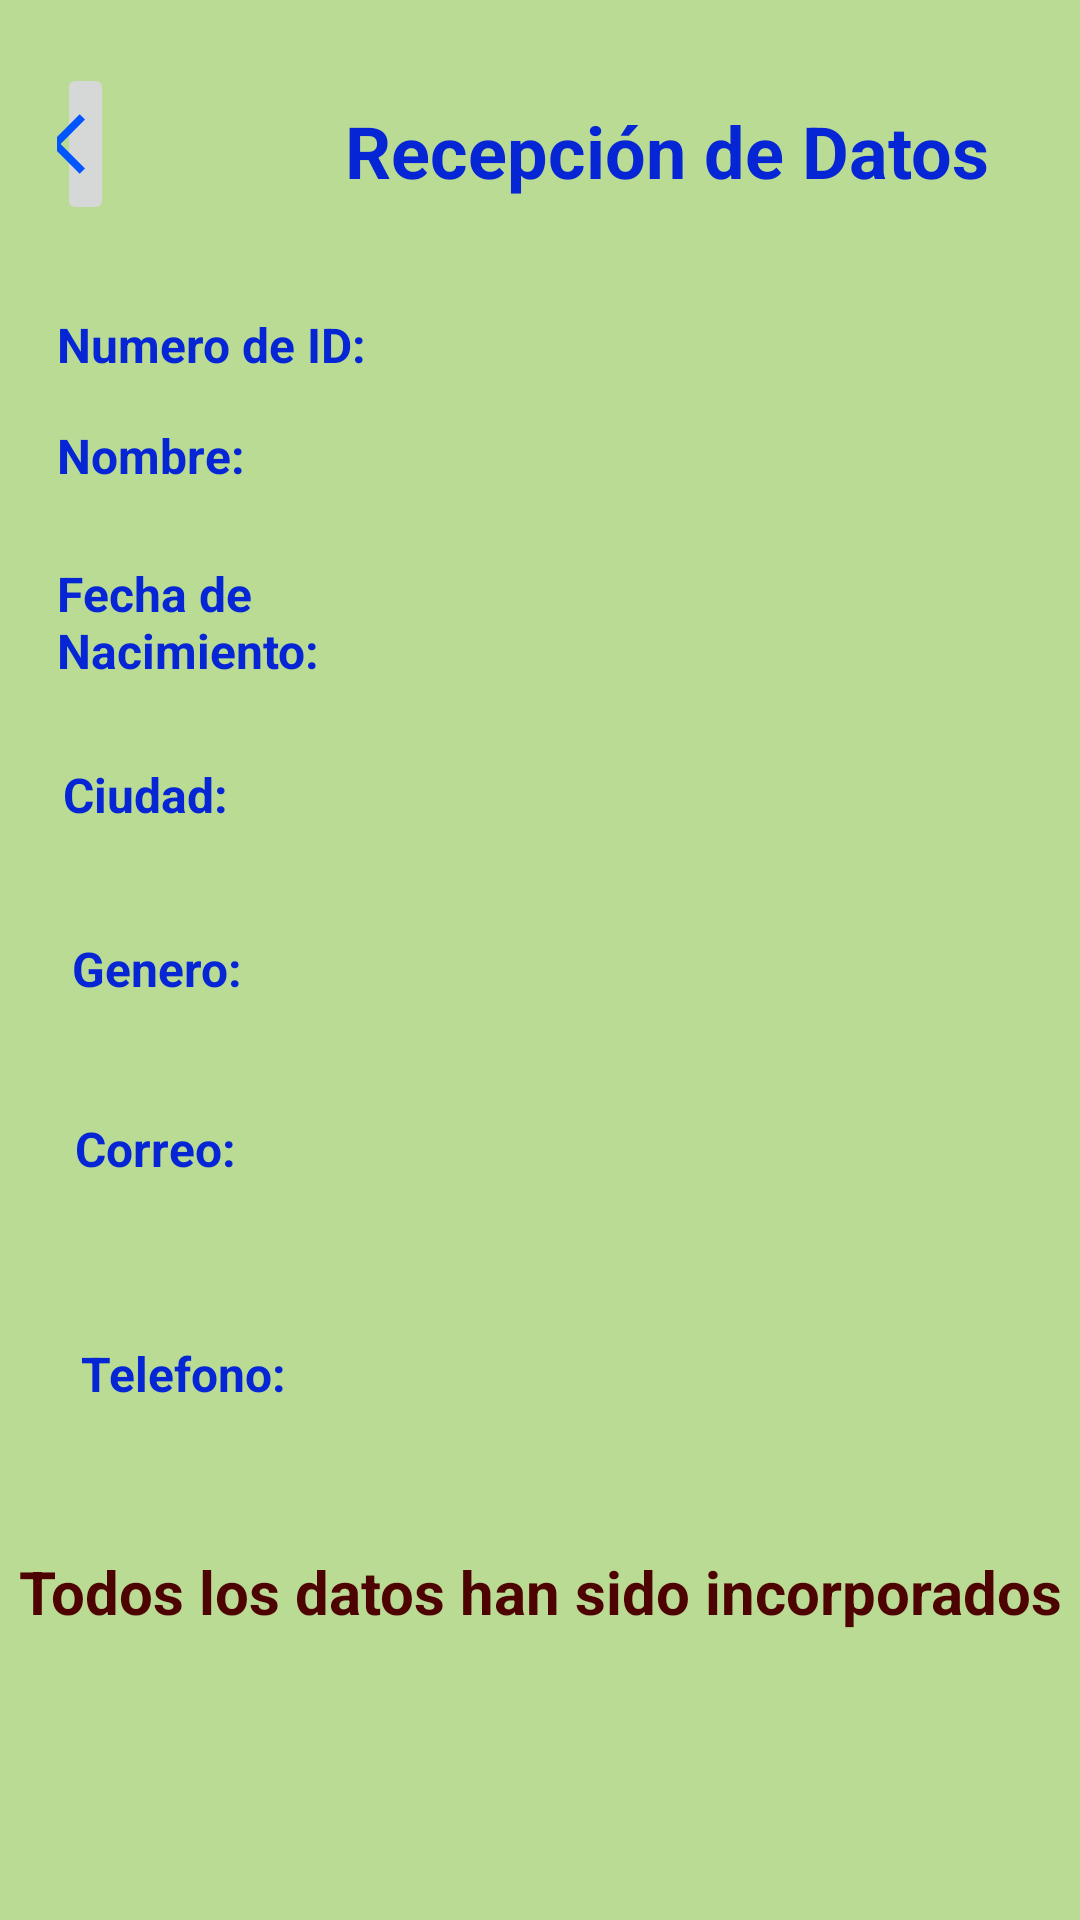

Named icons in this screenshot (1080w x 1920h) and their centers, (x=x, y=y):
Regresa a la pagina anterior: (x=79, y=144)
